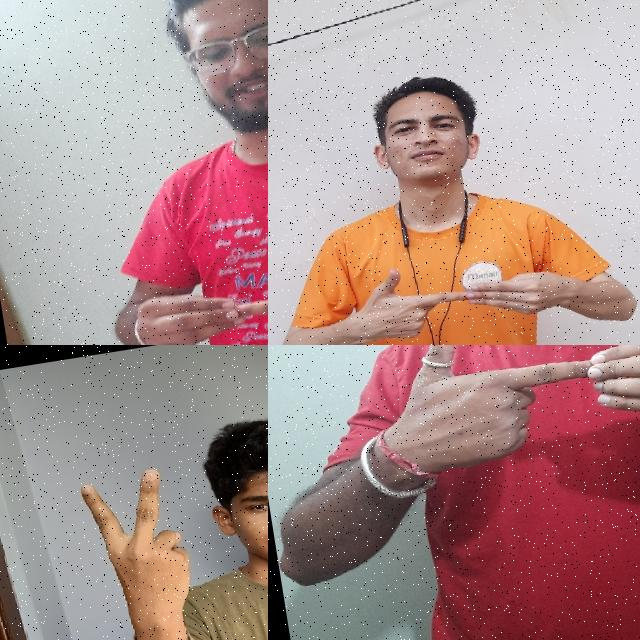Five Fathers: (367, 345, 640, 493), (340, 234, 573, 345), (117, 225, 268, 345)
Reversed Victory: (67, 460, 205, 640)
